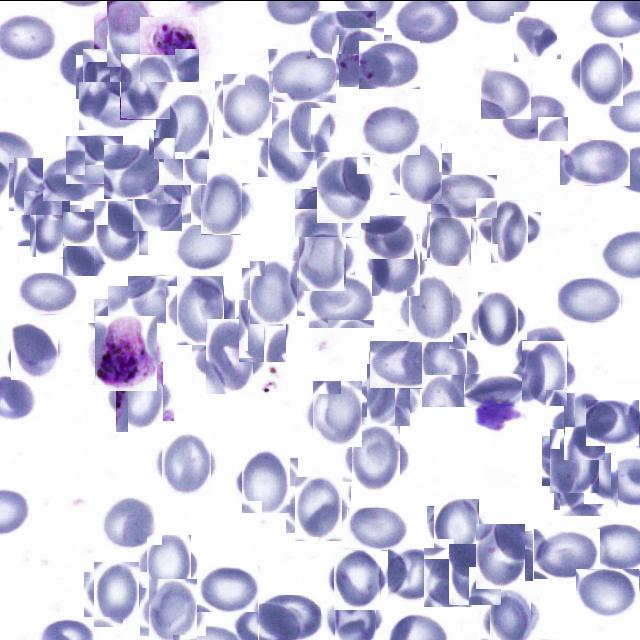red blood cell: (199, 324, 260, 386), (79, 81, 156, 129), (268, 48, 336, 102), (414, 339, 474, 399), (314, 160, 374, 220), (263, 122, 323, 182), (151, 96, 211, 156), (308, 274, 374, 328), (110, 366, 168, 426), (174, 215, 237, 269), (472, 526, 530, 584), (557, 454, 615, 512), (348, 428, 406, 486), (308, 384, 366, 442), (172, 280, 230, 338), (128, 168, 186, 226), (218, 76, 276, 134), (369, 340, 439, 388), (145, 582, 202, 640), (58, 214, 115, 272), (100, 4, 158, 61), (534, 528, 600, 578), (120, 53, 170, 119), (559, 139, 630, 185), (446, 546, 504, 602), (104, 144, 164, 198), (500, 94, 568, 141), (158, 434, 214, 491), (546, 432, 603, 488), (576, 568, 639, 618), (238, 453, 294, 509), (422, 548, 478, 604), (402, 280, 458, 336), (234, 302, 290, 358), (294, 230, 350, 286), (310, 10, 376, 57), (294, 188, 357, 237), (290, 481, 346, 536), (517, 344, 572, 400), (246, 263, 301, 319), (368, 236, 424, 291), (90, 566, 144, 622), (330, 550, 384, 606), (128, 275, 191, 323), (100, 496, 159, 547), (53, 38, 115, 86), (156, 127, 211, 181), (361, 105, 420, 155), (430, 174, 497, 218), (43, 154, 107, 200), (359, 40, 420, 88), (558, 398, 612, 452), (574, 46, 628, 100), (90, 204, 144, 258), (197, 565, 260, 611), (258, 594, 321, 640), (65, 135, 123, 184), (362, 368, 415, 421), (8, 324, 61, 376), (143, 538, 195, 590), (387, 548, 439, 600), (430, 502, 482, 554), (395, 147, 447, 199), (24, 198, 76, 250), (195, 177, 247, 229), (12, 160, 64, 212), (15, 272, 79, 314), (484, 204, 535, 256), (336, 31, 388, 82), (558, 278, 621, 320), (515, 325, 570, 373), (347, 507, 408, 550), (79, 50, 130, 101), (481, 66, 531, 118), (100, 292, 152, 342), (424, 212, 474, 262), (586, 399, 639, 445), (360, 215, 414, 259), (485, 593, 535, 640), (474, 295, 522, 343), (329, 595, 380, 640), (512, 13, 559, 60), (286, 103, 332, 149), (465, 373, 528, 405)
schizont: (91, 318, 160, 388), (138, 17, 201, 79)
